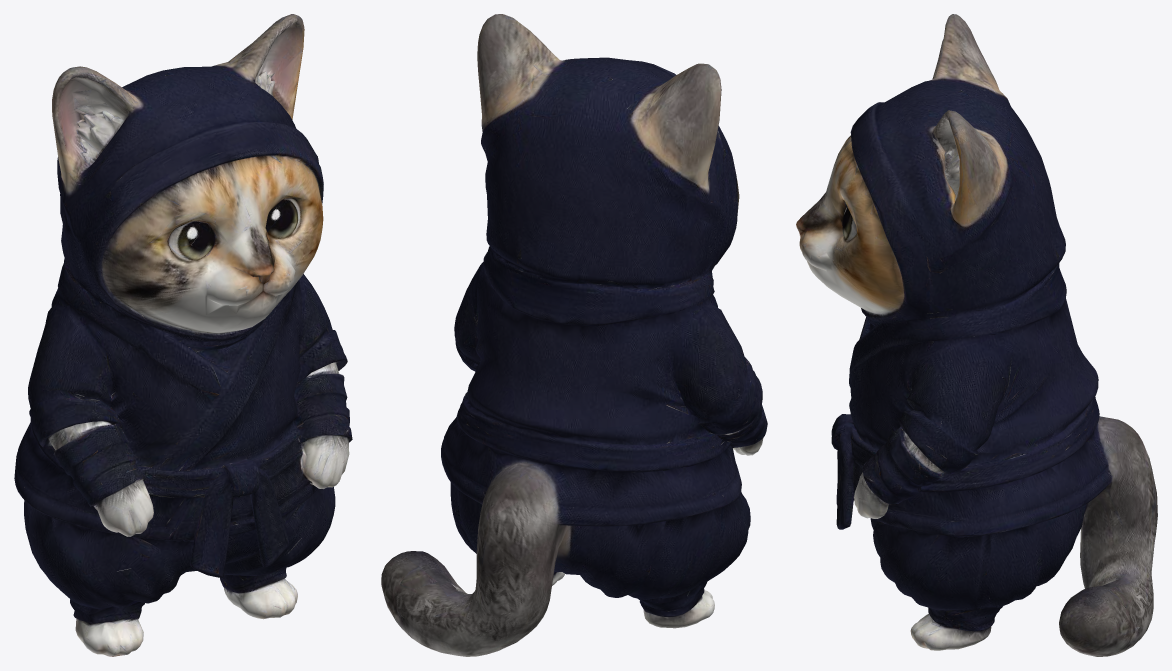
File: costume-ninja_cat-calico.glb
The picture shows the model from 3 angles, left to right: view 1: azimuth 30°, elevation 25°; view 2: azimuth 150°, elevation 25°; view 3: azimuth 270°, elevation 25°; orthographic projection. The views are drawn at different scales.
Visible parts, largest first — view 1: Mesh_0; view 2: Mesh_0; view 3: Mesh_0.
Boxes of the visible parts, bbox=[...] form: Mesh_0: bbox=[14, 14, 352, 656]; Mesh_0: bbox=[381, 14, 767, 656]; Mesh_0: bbox=[796, 14, 1157, 656].
Size of the model in its own units: 1.03 by 1.9 by 1.15.
Materials: 1 (1 with a texture image).
